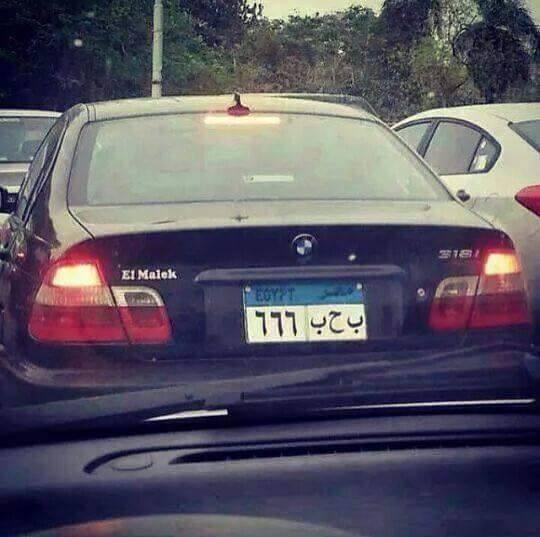6: (283, 309, 300, 337), (268, 310, 283, 339), (253, 309, 268, 338)
7aah: (326, 309, 346, 336)
License Plate: (240, 280, 369, 346)
baa: (346, 311, 363, 336), (310, 314, 328, 336)
car: (1, 98, 538, 368), (434, 99, 540, 276)
